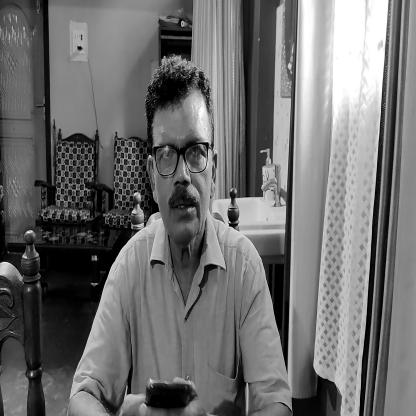Normal: (147, 54, 218, 247)
